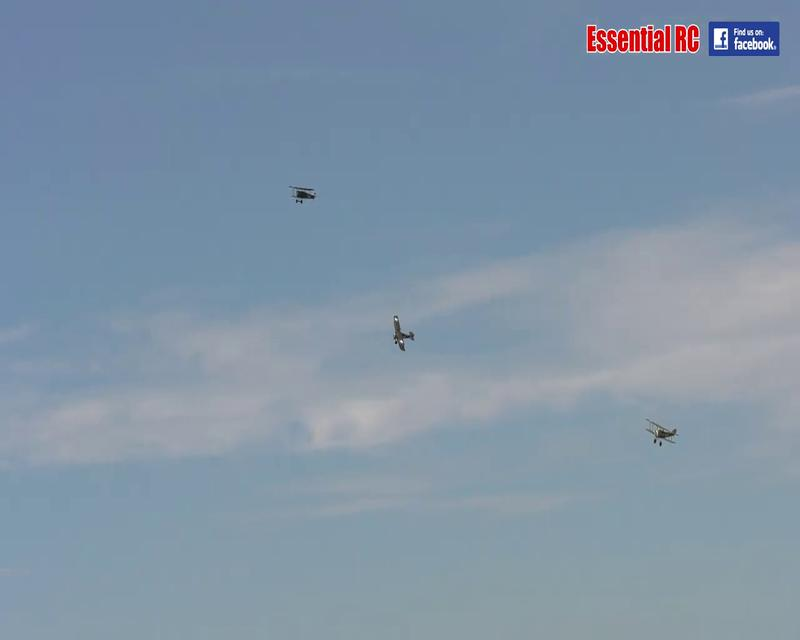UAV: (645, 416, 680, 447), (393, 315, 414, 351), (288, 185, 317, 205)
